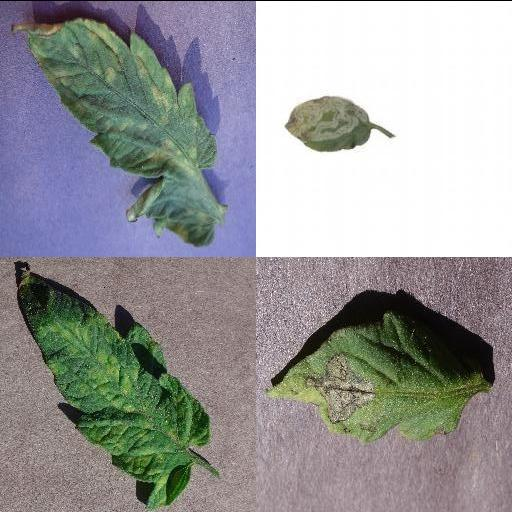Early Blight: (264, 308, 490, 439)
Leaf Miner: (284, 93, 372, 150)
Leaf Mold: (8, 16, 218, 247), (16, 263, 210, 508)
